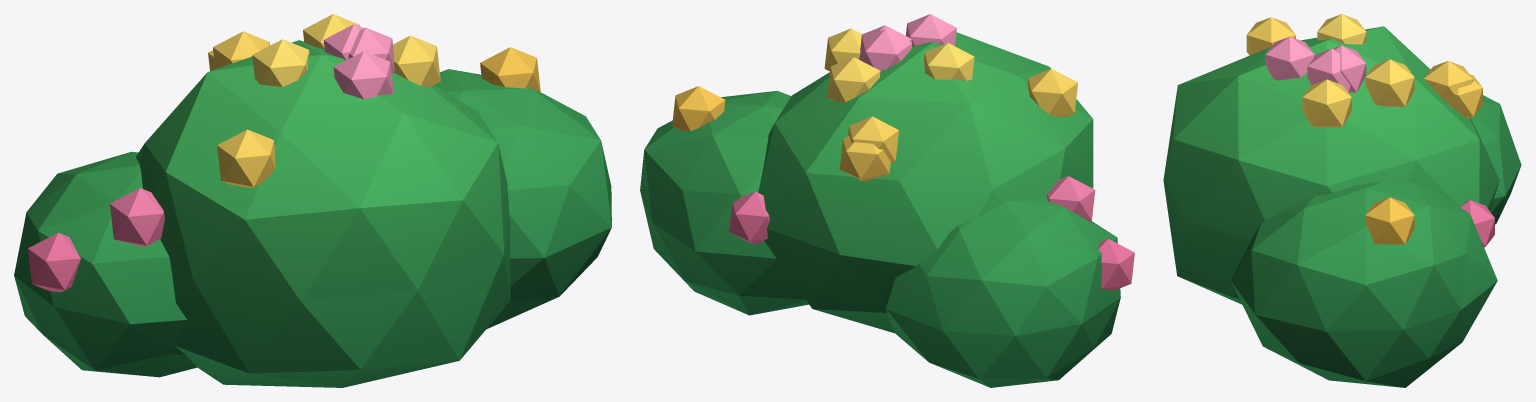
The model's file is arbusto_flores.glb.
3 views of the same model, side by side, from view 1: azimuth 30°, elevation 25°; view 2: azimuth 150°, elevation 25°; view 3: azimuth 270°, elevation 25° (orthographic). The views are drawn at different scales.
Visible parts, largest first — view 1: arbusto_flores; view 2: arbusto_flores; view 3: arbusto_flores.
Boxes of the visible parts, x1,y1,x2,y2 form: arbusto_flores: (14,14,611,387); arbusto_flores: (640,14,1134,387); arbusto_flores: (1163,14,1521,387).
Bounding box in the file's own units: 1.39 × 0.7973 × 0.9251.
Materials: 1 (1 with a texture image).
